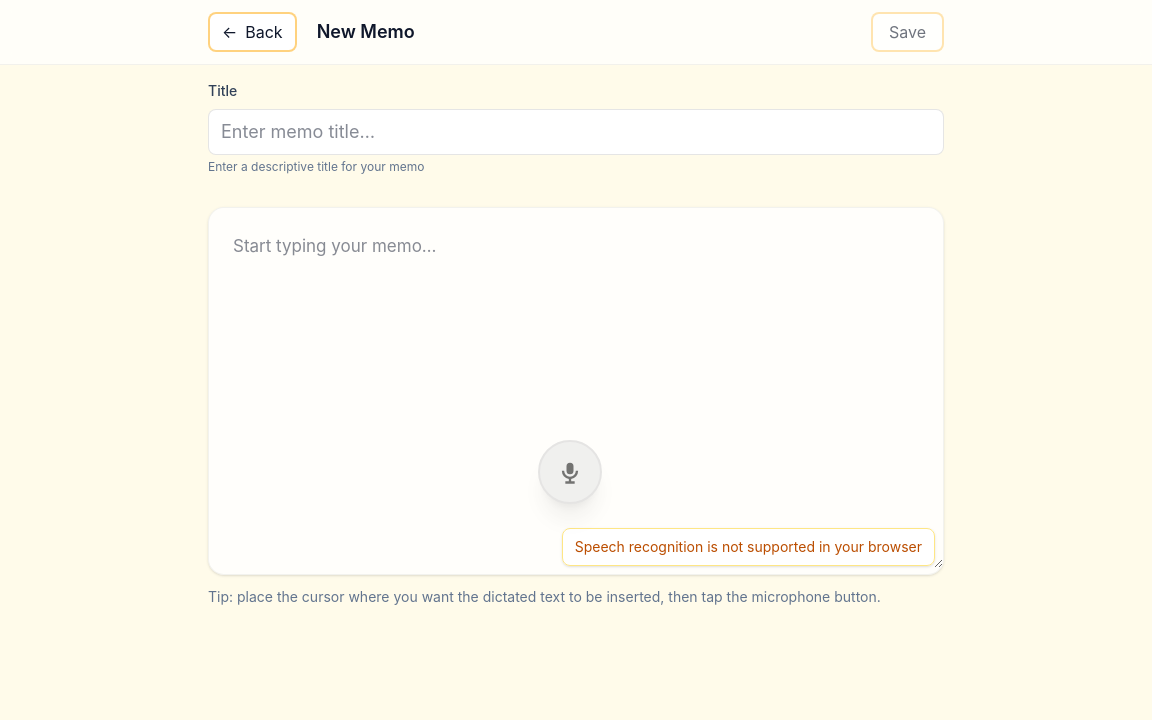
MemoPage — Save button state (create mode) › hides the Saved tick and re-enables Save when editing again after a save
Type "My memo" into the field labelled "Title" at [576, 132], box [208,109,944,155]
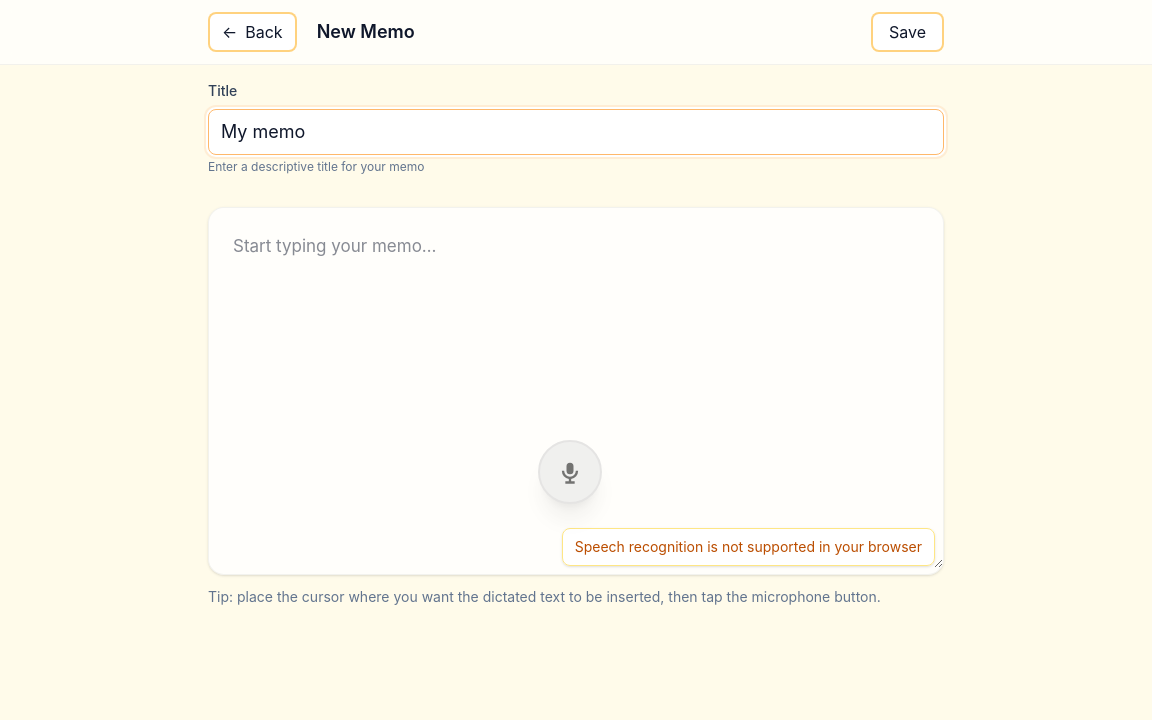
Click the button "Save" at [908, 32], box [871,12,944,52]
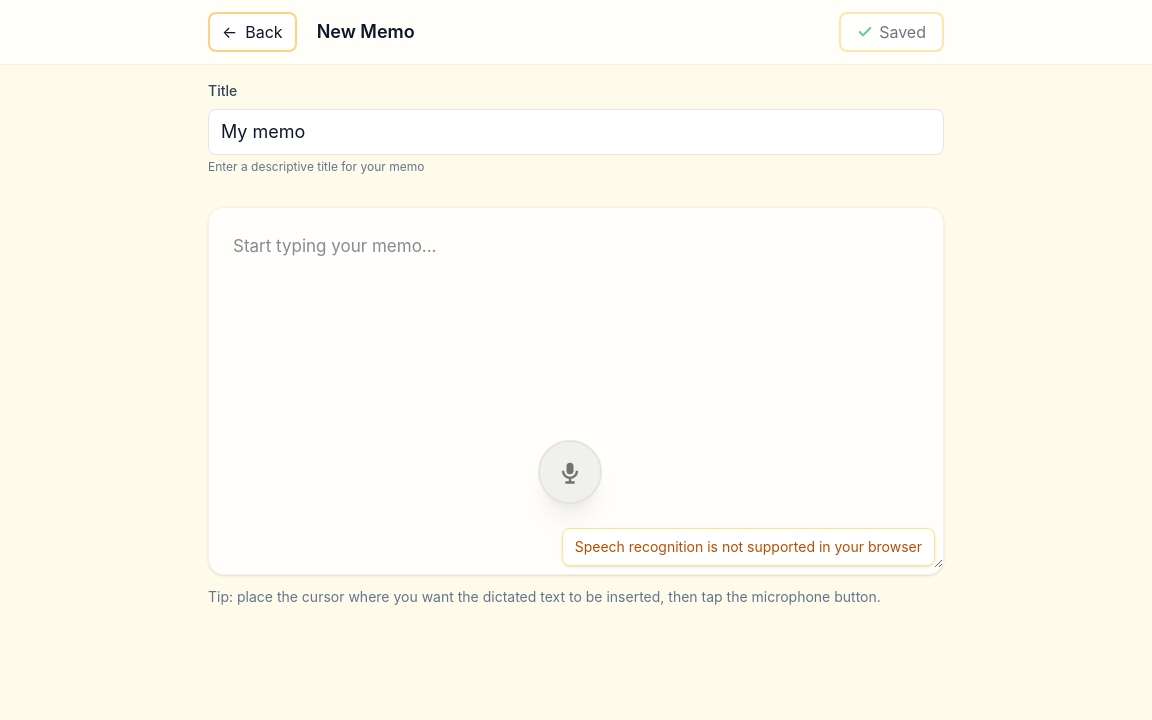
Expected: the text "Saved" is shown, [879,20,926,44]
Type " updated" into the field labelled "Title" at [576, 132], box [208,109,944,155]
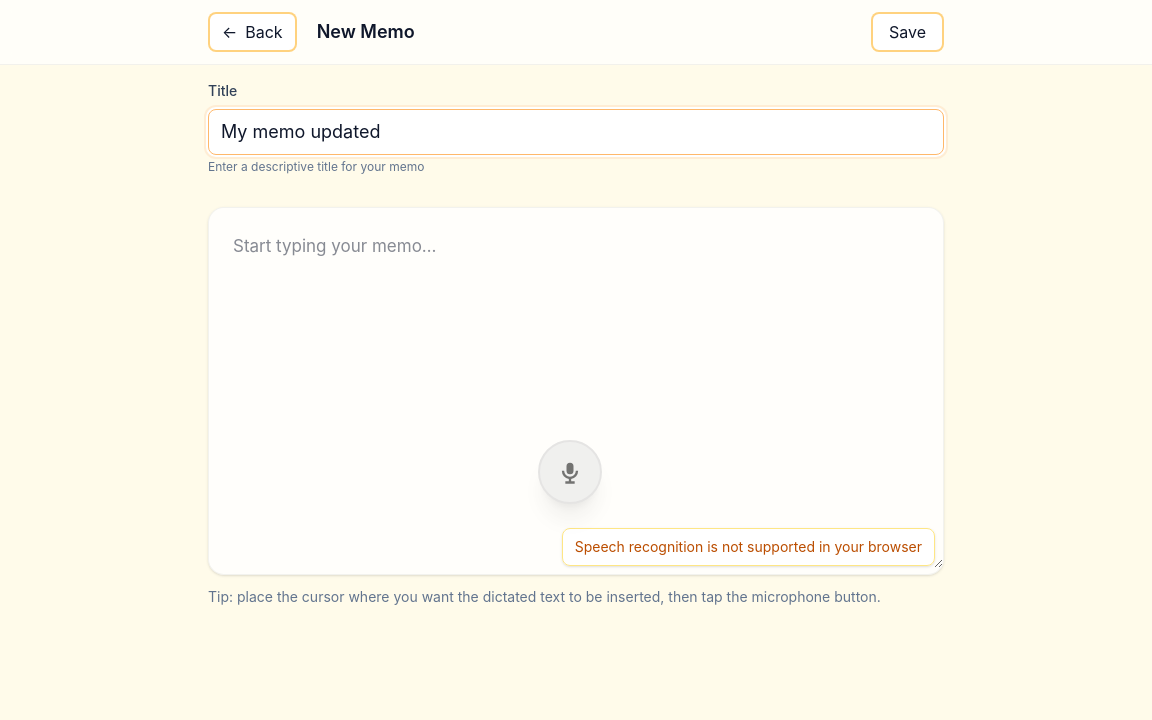
Expected: the button "Saved" is gone
Expected: the button "Save" is enabled, [871,12,944,52]
